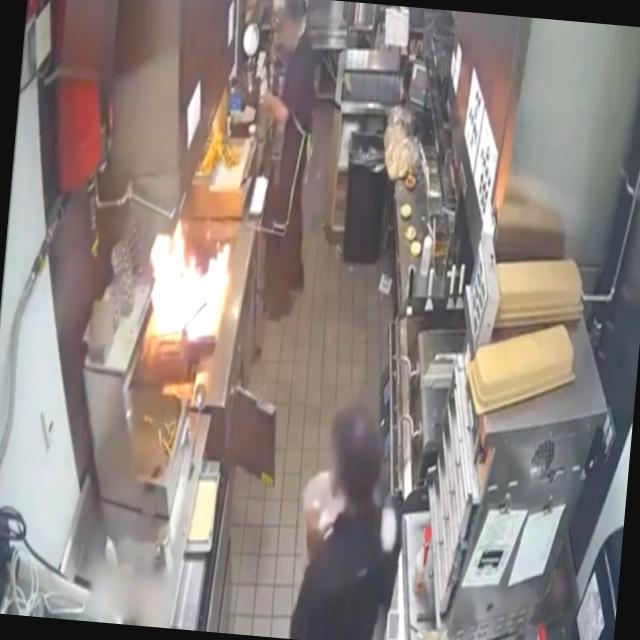fire: (128, 191, 249, 370)
